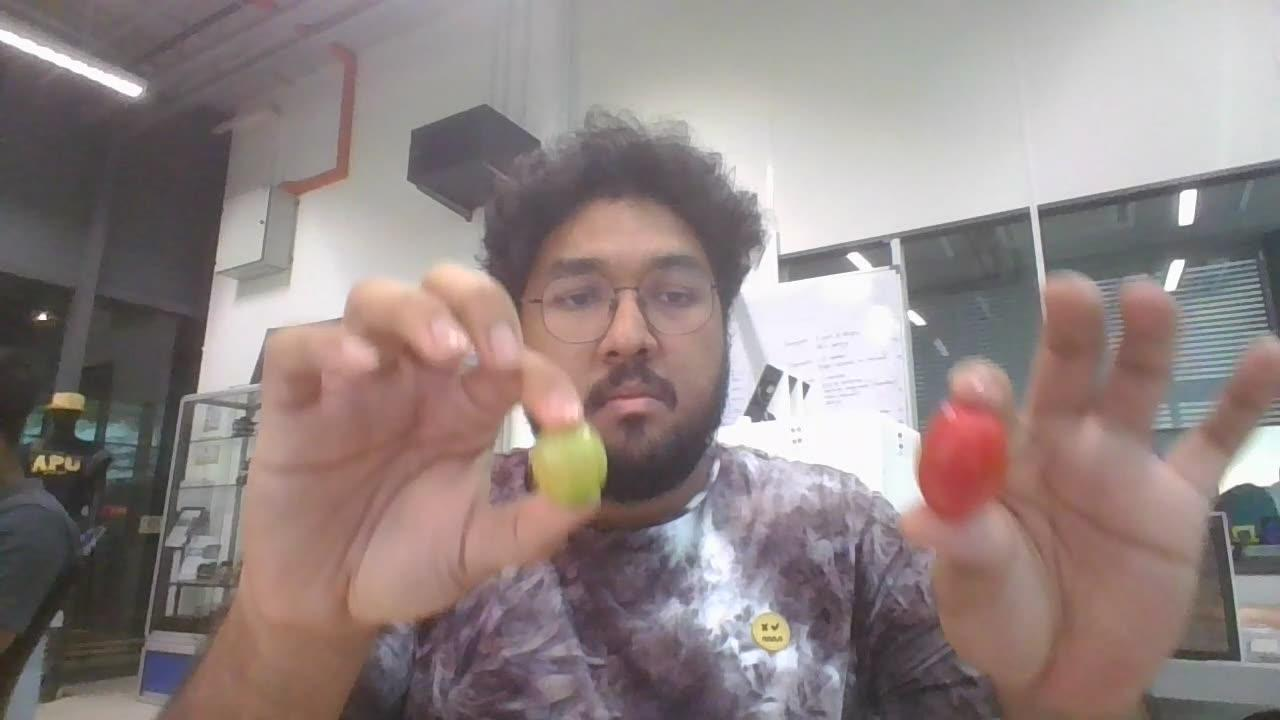green_cherry_tomato: (529, 422, 605, 508)
red_cherry_tomato: (918, 402, 1006, 520)
